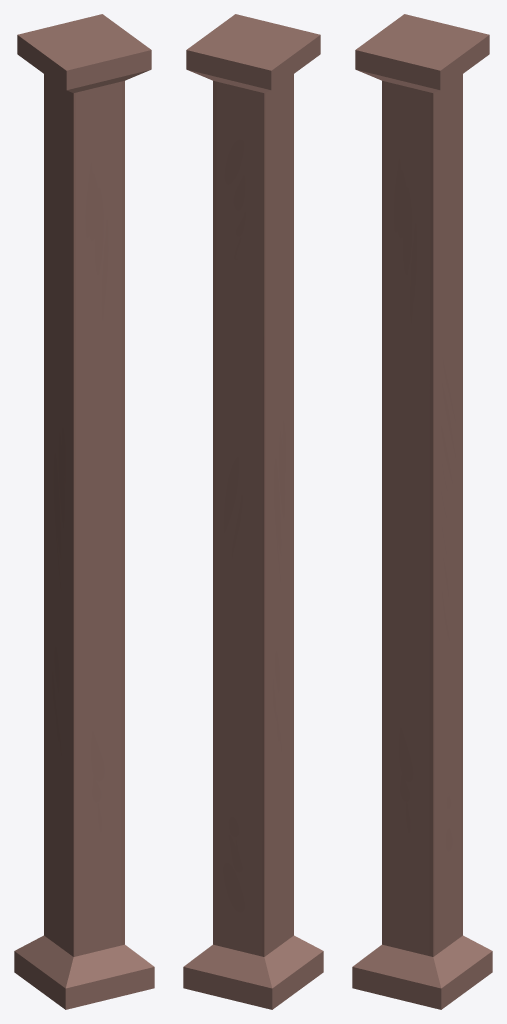
The model's file is pole.fbx.
3 renders of one model, left to right at view 1: azimuth 30°, elevation 25°; view 2: azimuth 150°, elevation 25°; view 3: azimuth 330°, elevation 25°, orthographic.
Parts seen in each view (by area): view 1: Cube; view 2: Cube; view 3: Cube.
Part boxes in pixels (x1,y1,x2,y2): Cube: (14, 14, 154, 1009); Cube: (183, 14, 323, 1009); Cube: (352, 14, 492, 1009).
Bounding box in the file's own units: 40.92 × 413 × 40.92.
